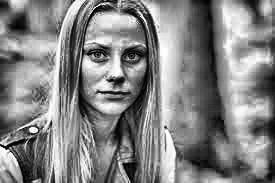happy: (70, 15, 151, 116)
